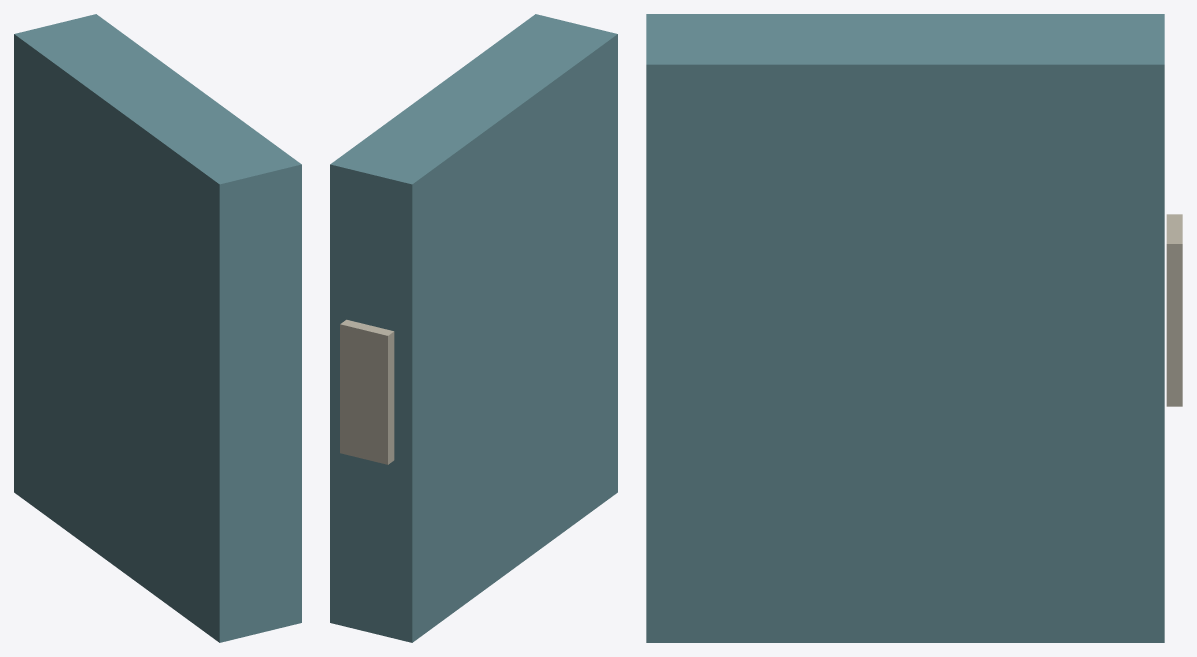
File: binder.glb
The picture shows the model from 3 angles, left to right: view 1: azimuth 30°, elevation 25°; view 2: azimuth 150°, elevation 25°; view 3: azimuth 270°, elevation 25°; orthographic projection. The views are drawn at different scales.
Visible parts, largest first — view 1: body; view 2: body; view 3: body.
Boxes of the visible parts, x1,y1,x2,y2 form: body: [14, 14, 301, 642]; body: [330, 14, 617, 642]; body: [646, 14, 1182, 642].
Size of the model in its own units: 0.06 by 0.32 by 0.269.
